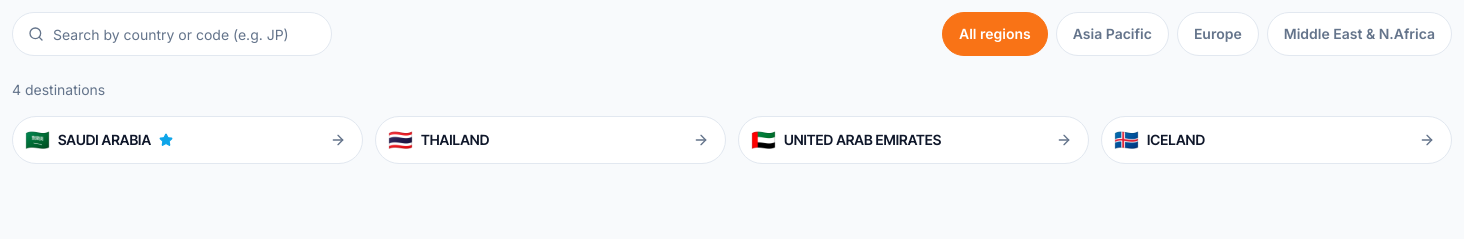
Scenario: searching destinations › says nothing matched rather than showing a bare grid
In the field named "search destinations": (172, 34) left=12, top=12, right=332, bottom=56, type "atlantis"
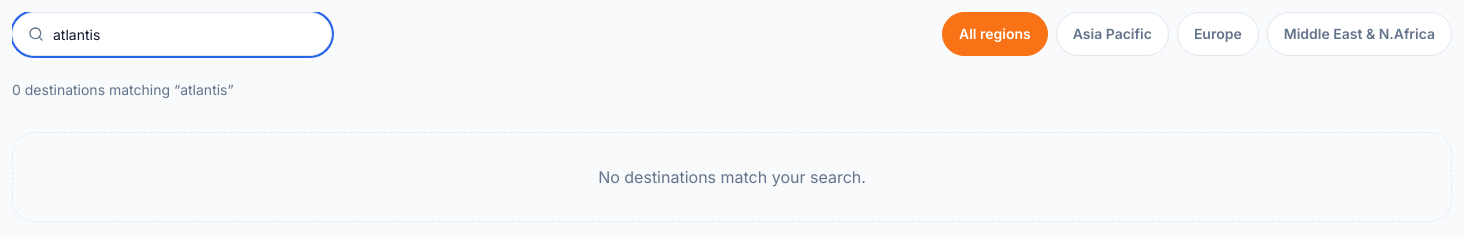
Expected: the 2nd text "no destinations match your search" is shown, left=598, top=167, right=866, bottom=187
